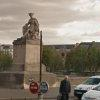Statue: (13, 5, 54, 51)
